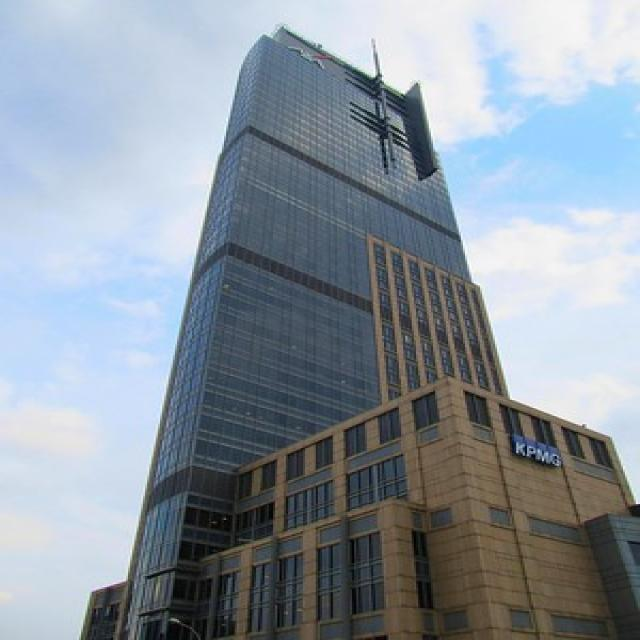building: (77, 14, 520, 637)
